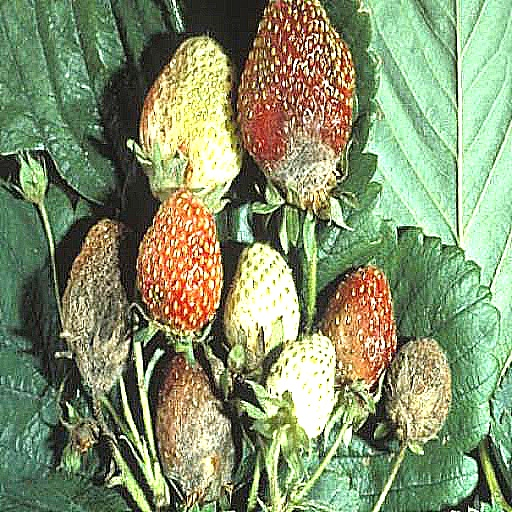Gray Mold: (55, 113, 134, 294), (154, 5, 236, 156), (250, 303, 347, 426), (382, 64, 451, 175)
